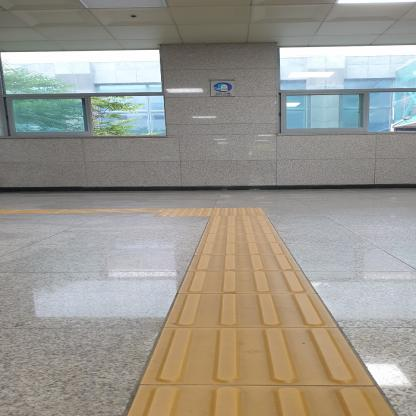go: (137, 327, 379, 386), (163, 293, 340, 329), (176, 271, 317, 294), (187, 255, 303, 271)
